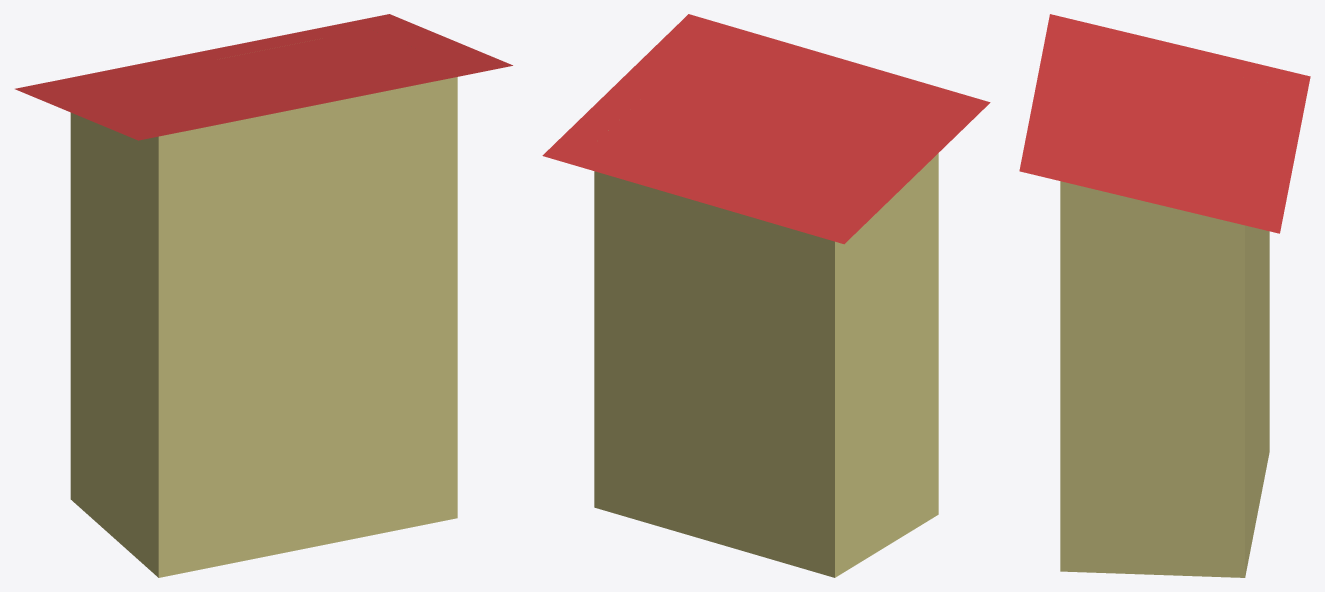
The picture shows the model from 3 angles, left to right: view 1: azimuth 30°, elevation 25°; view 2: azimuth 150°, elevation 25°; view 3: azimuth 270°, elevation 25°; orthographic projection. The views are drawn at different scales.
Size of the model in its own units: 5.17 by 3.83 by 6.01.
